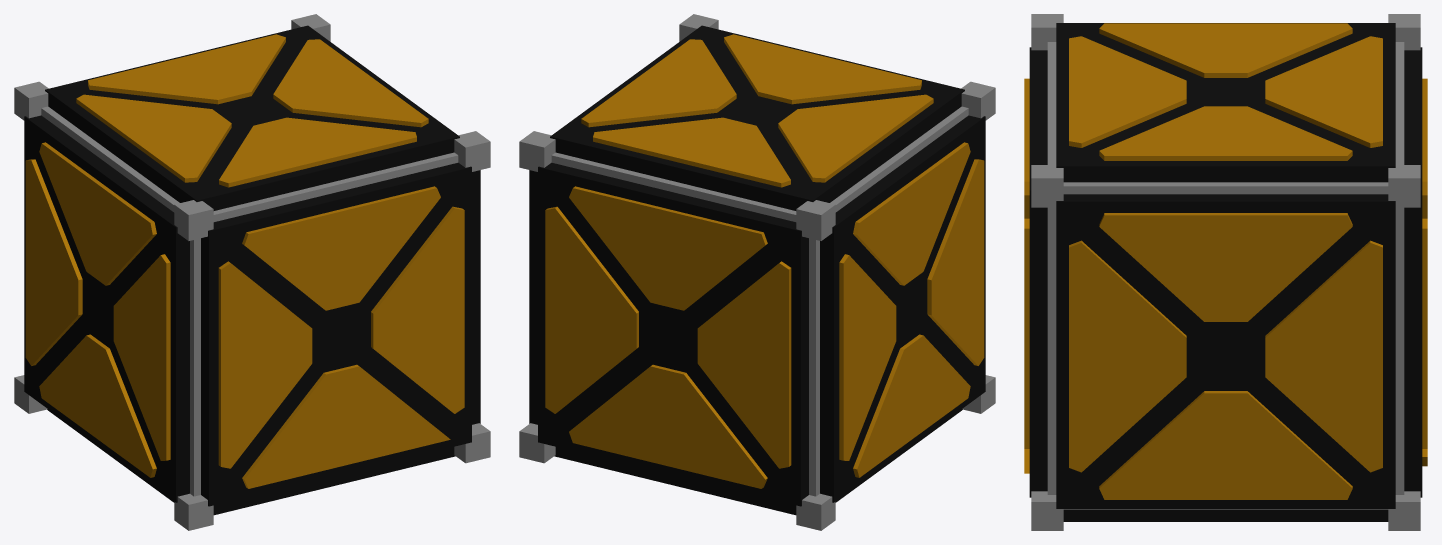
Rendered from Crate.fbx.
The picture shows the model from 3 angles, left to right: view 1: azimuth 30°, elevation 25°; view 2: azimuth 150°, elevation 25°; view 3: azimuth 270°, elevation 25°; orthographic projection. The views are drawn at different scales.
Visible parts, largest first — view 1: crate; view 2: crate; view 3: crate.
Boxes of the visible parts, <box> form: crate: <box>14,14,490,530</box>; crate: <box>519,14,995,530</box>; crate: <box>1024,14,1427,530</box>.
Size of the model in its own units: 1.13 by 1.13 by 1.13.
